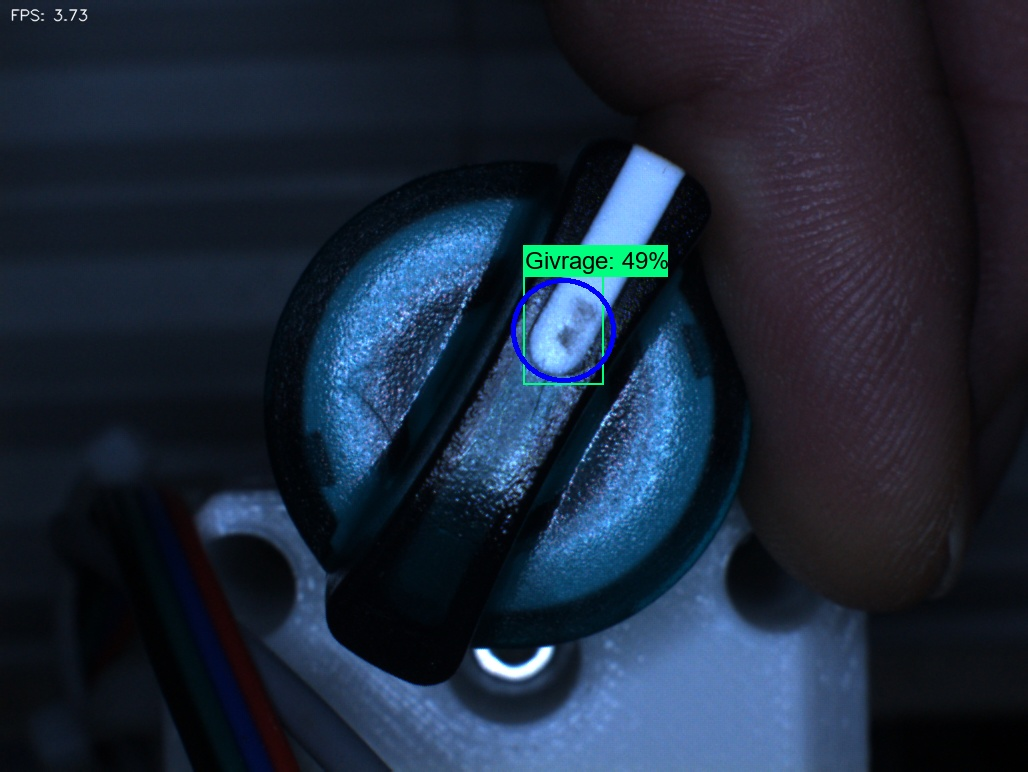PointNoir: (537, 296, 626, 384)
